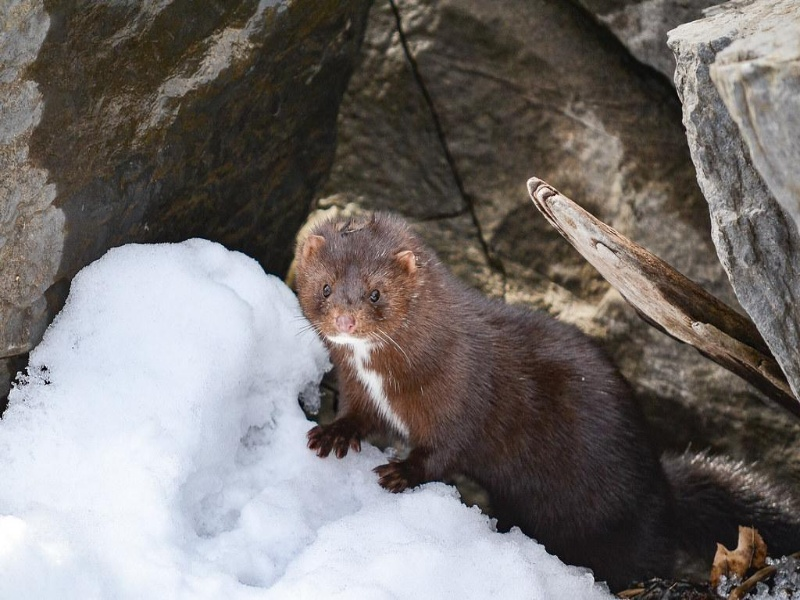minkish: (292, 215, 792, 588)
